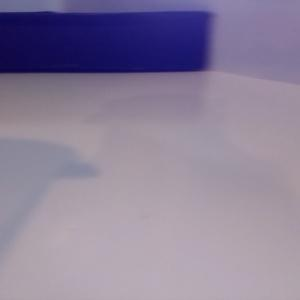zone: (1, 11, 210, 72)
